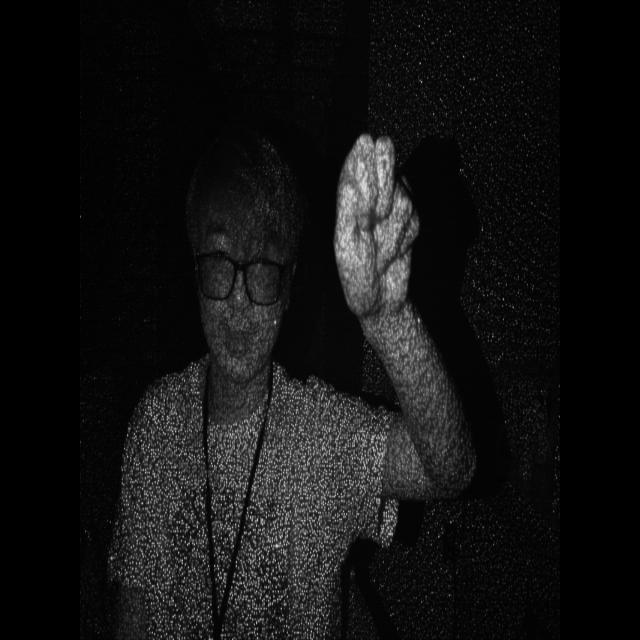N: (326, 108, 427, 334)
